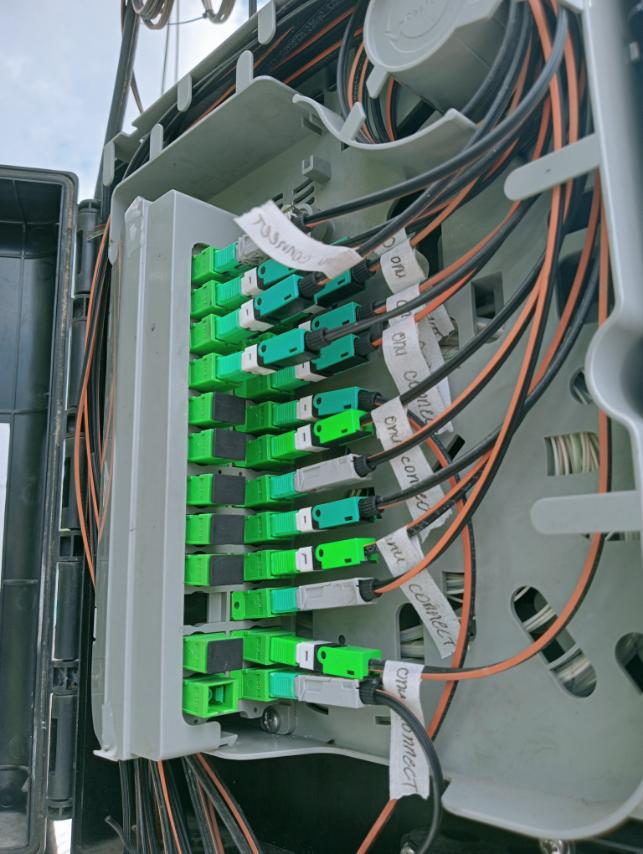no dust cap: (205, 681, 237, 717)
no port: (183, 593, 228, 627)
occupied: (214, 260, 329, 350), (263, 252, 382, 328), (216, 314, 336, 388), (214, 197, 316, 282), (219, 234, 328, 311), (270, 329, 382, 395), (273, 294, 380, 362), (271, 405, 378, 466), (264, 218, 359, 285), (274, 493, 387, 545), (272, 452, 376, 504), (272, 533, 382, 582), (272, 634, 384, 682), (273, 573, 387, 620), (273, 384, 382, 431), (271, 670, 382, 710)
vacant: (207, 639, 243, 674), (213, 393, 246, 426), (213, 429, 246, 461), (213, 475, 246, 506), (211, 556, 245, 586), (211, 515, 245, 544)
